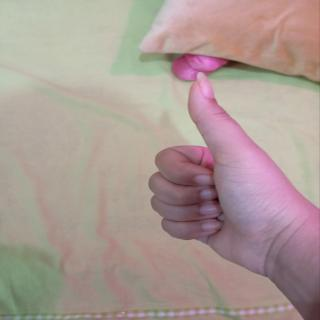ALIF: (144, 66, 300, 288)
